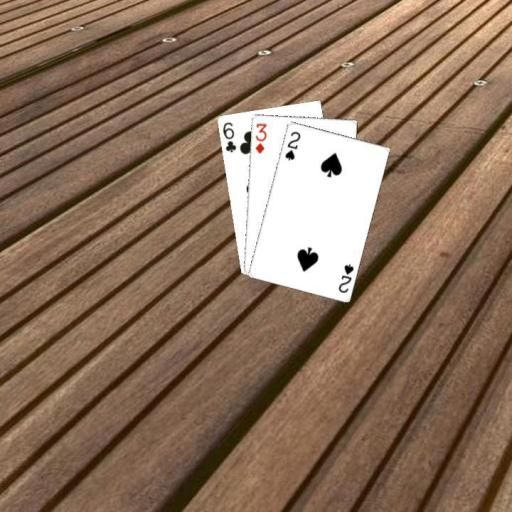2S: (282, 128, 302, 162), (335, 261, 355, 295)
3D: (252, 120, 268, 155)
6C: (219, 119, 238, 154)
